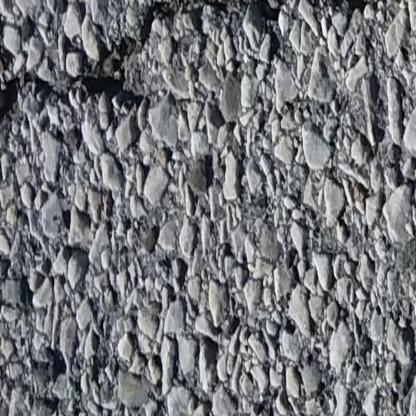Cracks: (0, 0, 408, 154)
